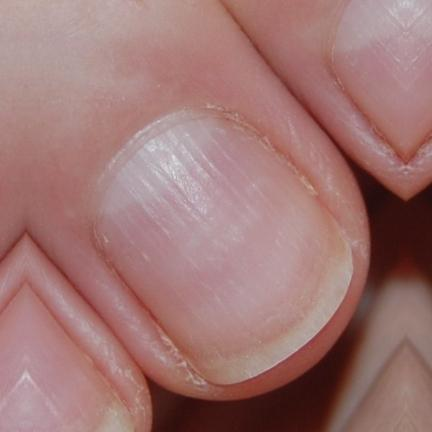Nail: (93, 108, 352, 383)
